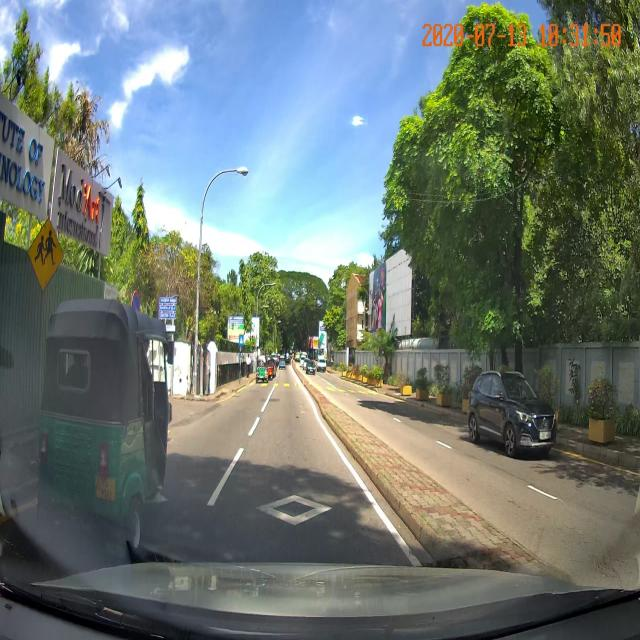diamond: (197, 473, 406, 547)
